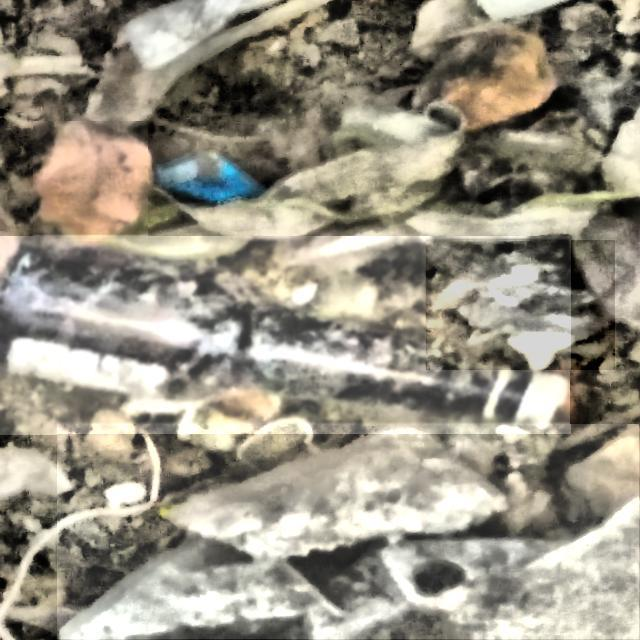anorganik: (57, 425, 640, 638), (0, 236, 570, 434), (426, 240, 615, 370)
organik: (33, 121, 148, 241)
